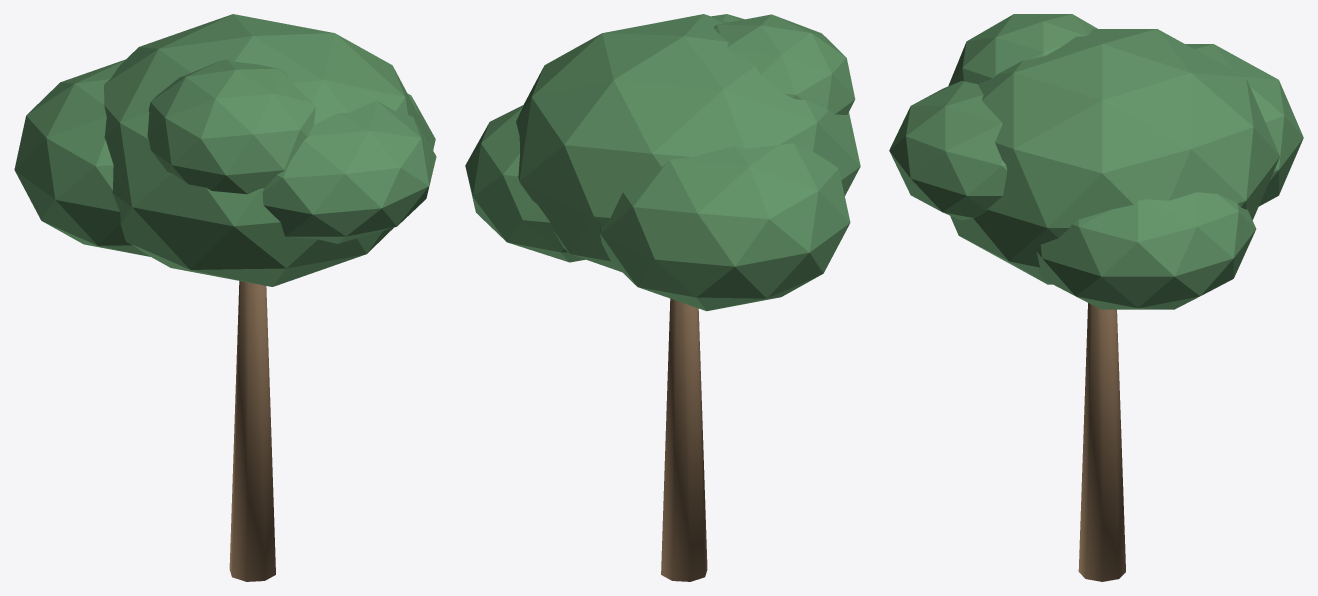
File: tree.glb
The picture shows the model from 3 angles, left to right: view 1: azimuth 30°, elevation 25°; view 2: azimuth 150°, elevation 25°; view 3: azimuth 270°, elevation 25°; orthographic projection.
Visible parts, largest first — view 1: Tree; view 2: Tree; view 3: Tree.
Part boxes in pixels (bbox=[...]): Tree: bbox=[14, 14, 436, 581]; Tree: bbox=[465, 14, 860, 581]; Tree: bbox=[889, 14, 1303, 581].
Bounding box in the file's own units: 6.99 × 9.84 × 7.
